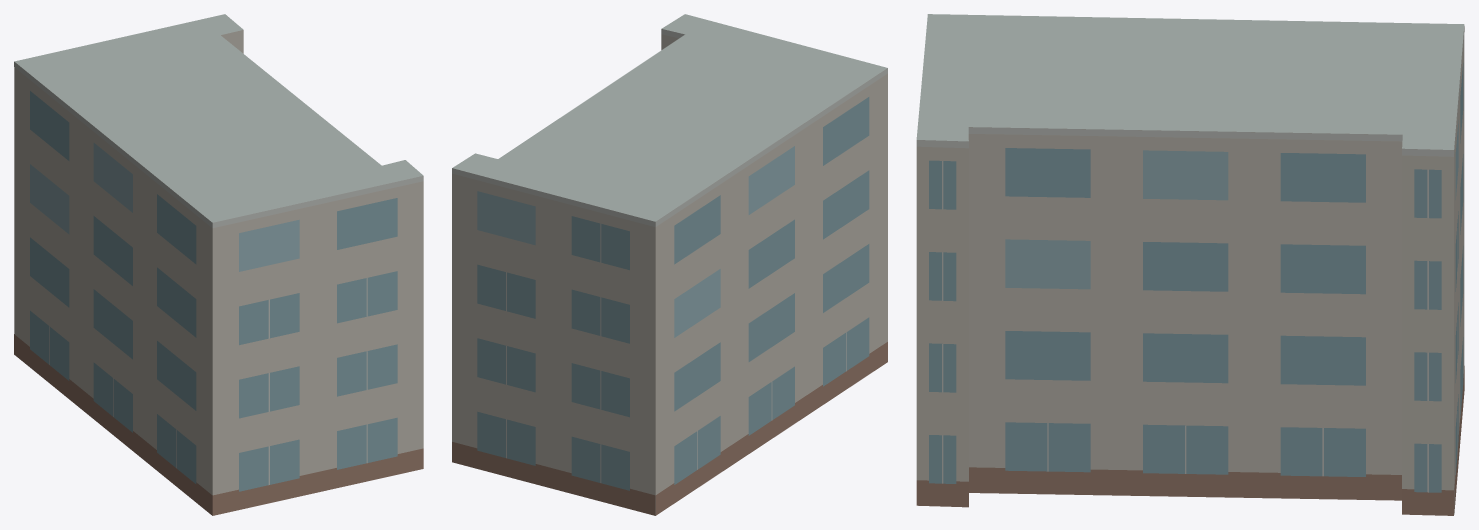
The model's file is survey-upis-32703092.glb.
The picture shows the model from 3 angles, left to right: view 1: azimuth 30°, elevation 25°; view 2: azimuth 150°, elevation 25°; view 3: azimuth 270°, elevation 25°; orthographic projection. The views are drawn at different scales.
Parts seen in each view (by area): view 1: survey-upis-32703092.tmp; view 2: survey-upis-32703092.tmp; view 3: survey-upis-32703092.tmp.
Part boxes in pixels (left/top/right/bottom): survey-upis-32703092.tmp: left=14, top=14, right=423, bottom=515; survey-upis-32703092.tmp: left=452, top=14, right=887, bottom=515; survey-upis-32703092.tmp: left=916, top=14, right=1464, bottom=515.
Size of the model in its own units: 10.46 by 13.1 by 17.79.
